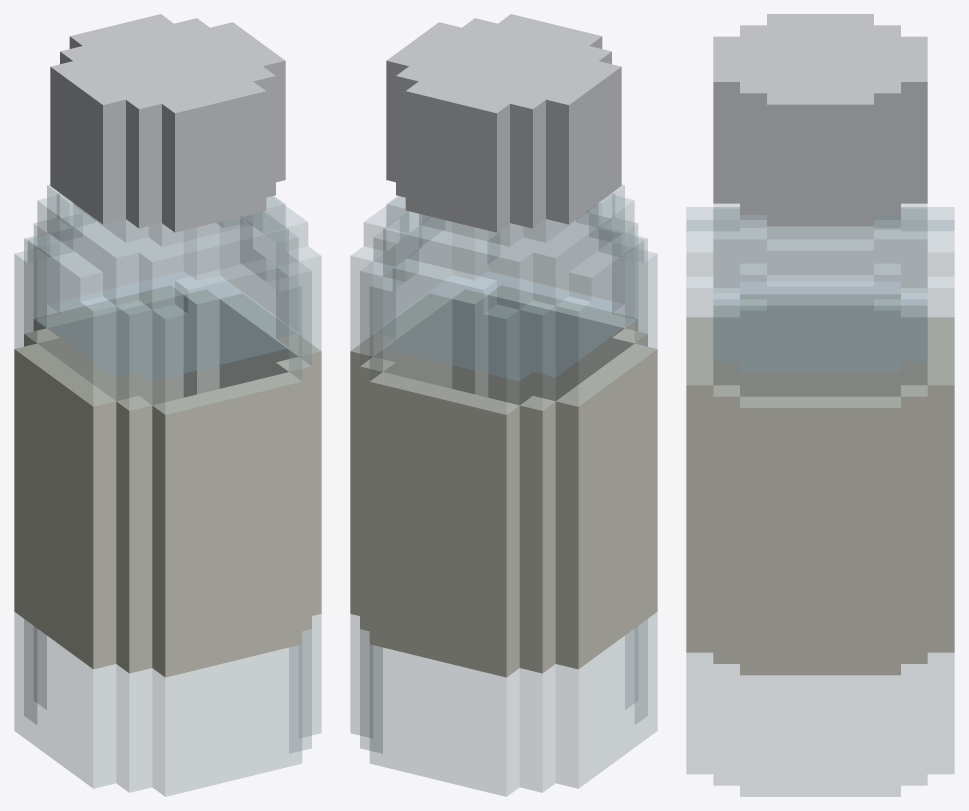
The model's file is crystal_tonic_vial.glb.
The picture shows the model from 3 angles, left to right: view 1: azimuth 30°, elevation 25°; view 2: azimuth 150°, elevation 25°; view 3: azimuth 270°, elevation 25°; orthographic projection.
Visible parts, largest first — view 1: crystal_tonic_vial:compound; view 2: crystal_tonic_vial:compound; view 3: crystal_tonic_vial:compound.
Part boxes in pixels (box(x1,y1,x2,y2)): crystal_tonic_vial:compound: box(14, 14, 321, 796); crystal_tonic_vial:compound: box(350, 14, 657, 796); crystal_tonic_vial:compound: box(686, 14, 954, 796).
Size of the model in its own units: 0.02 by 0.056 by 0.02.
